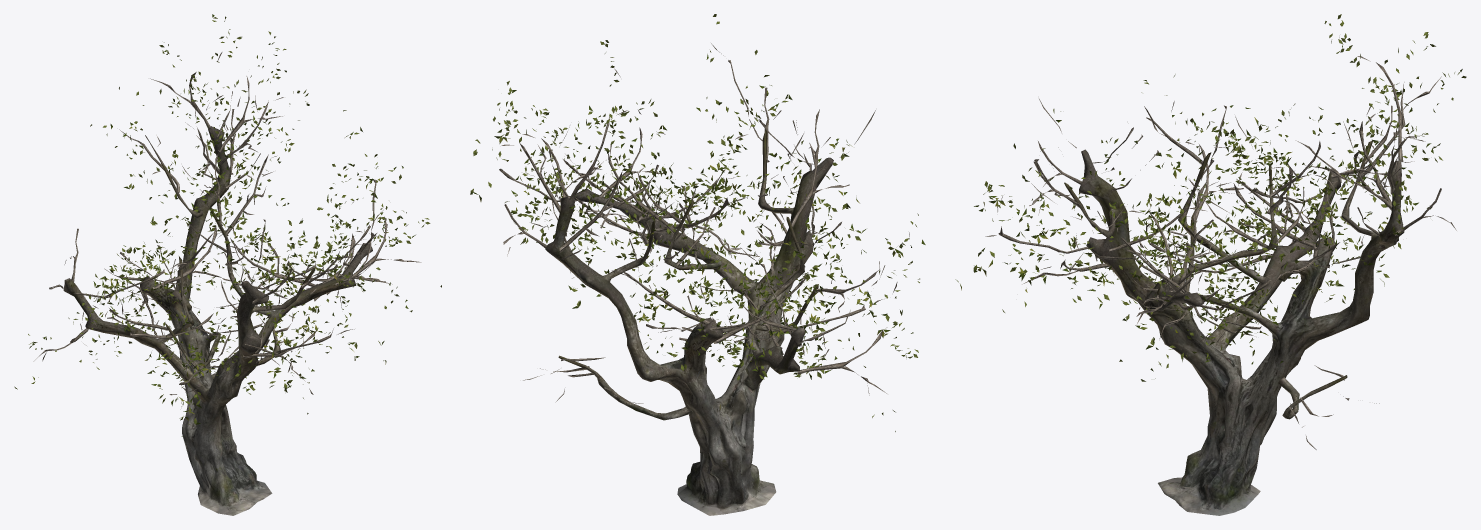
Rendered from cay-ven-bien.glb.
3 views of the same model, side by side, from view 1: azimuth 30°, elevation 25°; view 2: azimuth 150°, elevation 25°; view 3: azimuth 270°, elevation 25° (orthographic). The views are drawn at different scales.
Parts seen in each view (by area): view 1: island_tree_01_LOD0; view 2: island_tree_01_LOD0; view 3: island_tree_01_LOD0.
Part boxes in pixels (x1,y1,x2,y2): island_tree_01_LOD0: [14, 14, 441, 515]; island_tree_01_LOD0: [470, 14, 925, 515]; island_tree_01_LOD0: [955, 14, 1466, 515].
Bounding box in the file's own units: 0.9163 × 0.9829 × 0.8939.
Materials: 3 (3 with a texture image).
